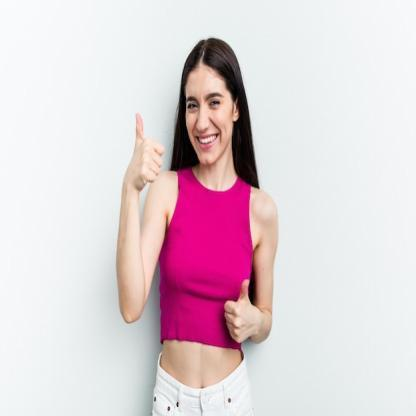thumb_up: (123, 108, 167, 190)
